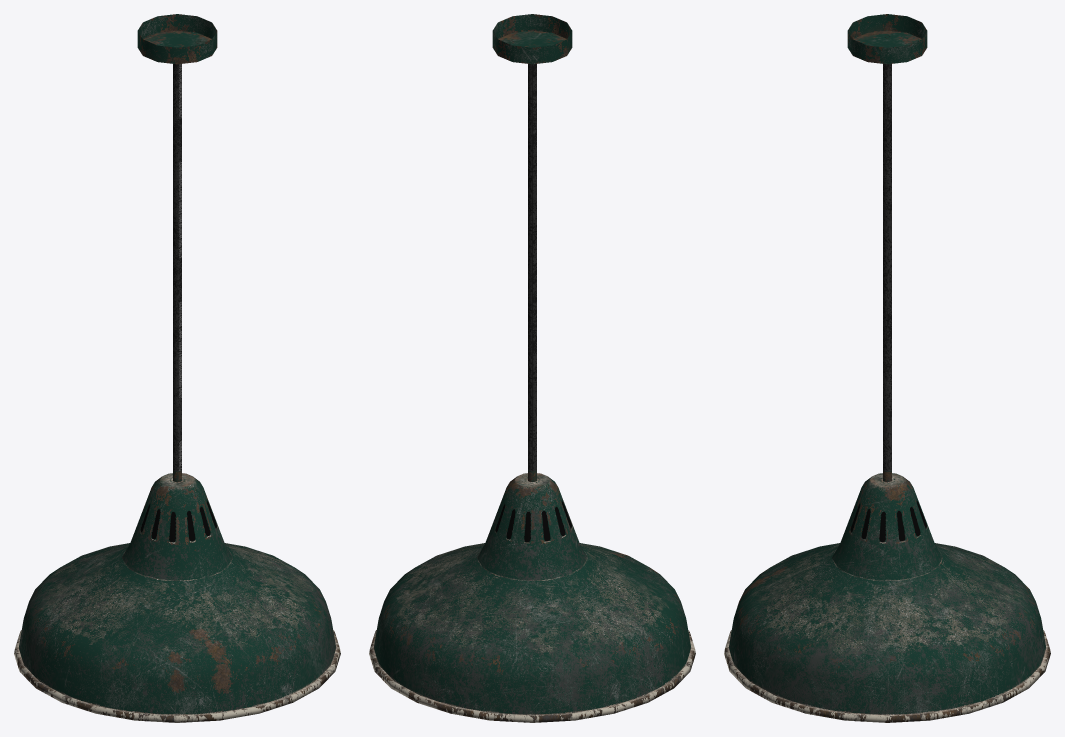
Rendered from LampGymBrokenA.FBX.
3 renders of one model, left to right at view 1: azimuth 30°, elevation 25°; view 2: azimuth 150°, elevation 25°; view 3: azimuth 270°, elevation 25°, orthographic.
Visible parts, largest first — view 1: LampGymBrokenA_LOD0; view 2: LampGymBrokenA_LOD0; view 3: LampGymBrokenA_LOD0.
Boxes of the visible parts, x1=… form: LampGymBrokenA_LOD0: x1=14, y1=14, x2=340, y2=722; LampGymBrokenA_LOD0: x1=369, y1=14, x2=695, y2=722; LampGymBrokenA_LOD0: x1=724, y1=14, x2=1050, y2=722.
Size of what is drawn, in the model's own units: 49.12 by 103 by 49.12.
